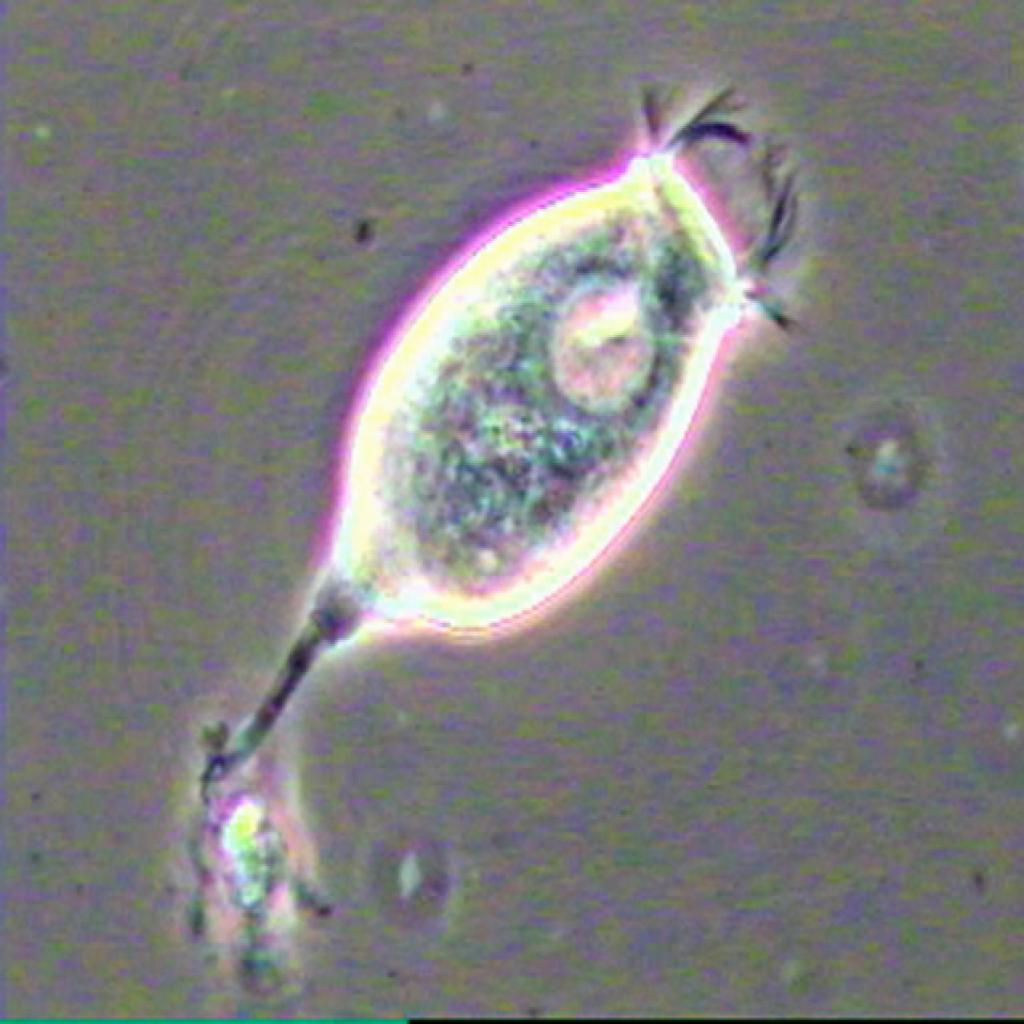Vorticella: (158, 84, 866, 859)
